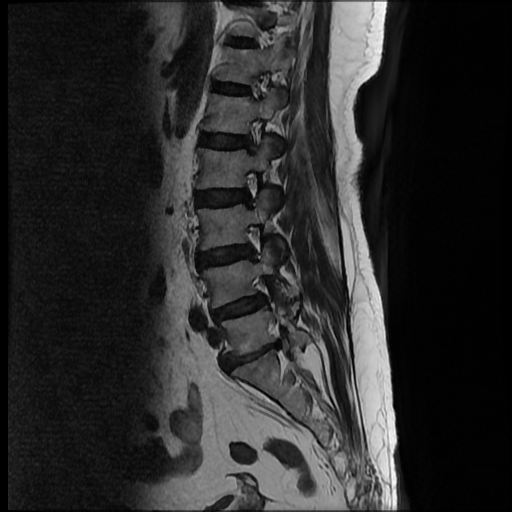LFS0: (239, 216, 276, 268), (235, 164, 269, 215), (235, 112, 271, 160)
